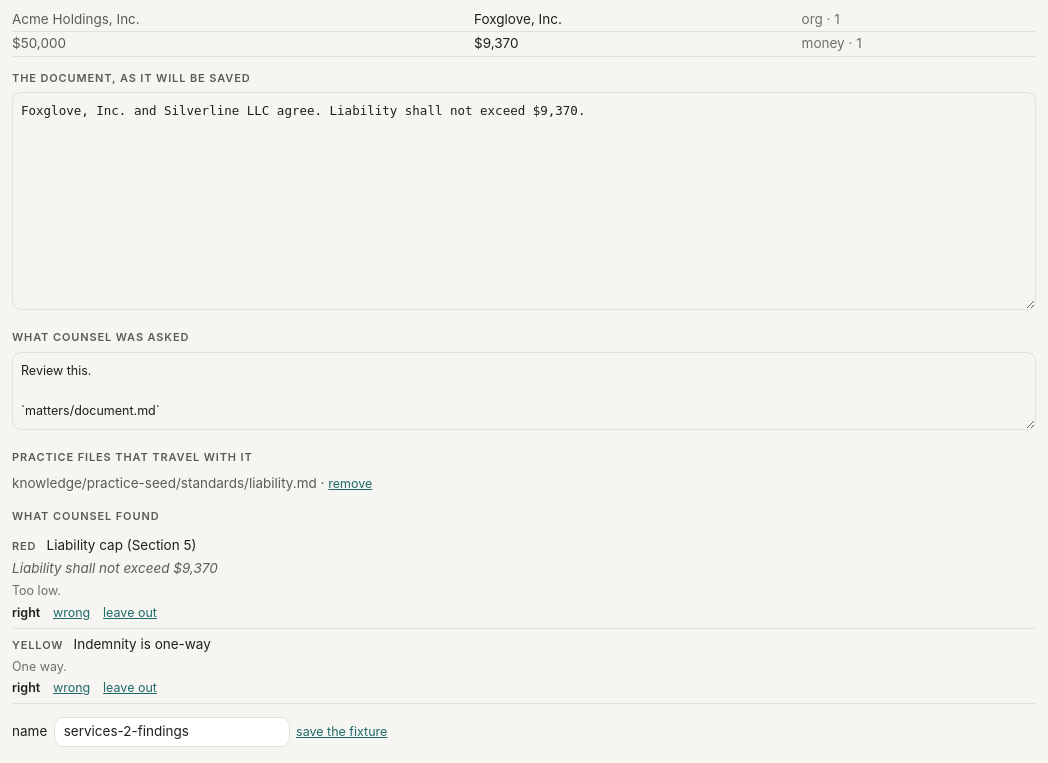
Scenario: a finding the save left out is named, not quietly gone
The image size is (1048, 763).
(page scrolled)
Click the button "save the fixture".
click(342, 732)  # box [296,722,387,742]
(page scrolled)
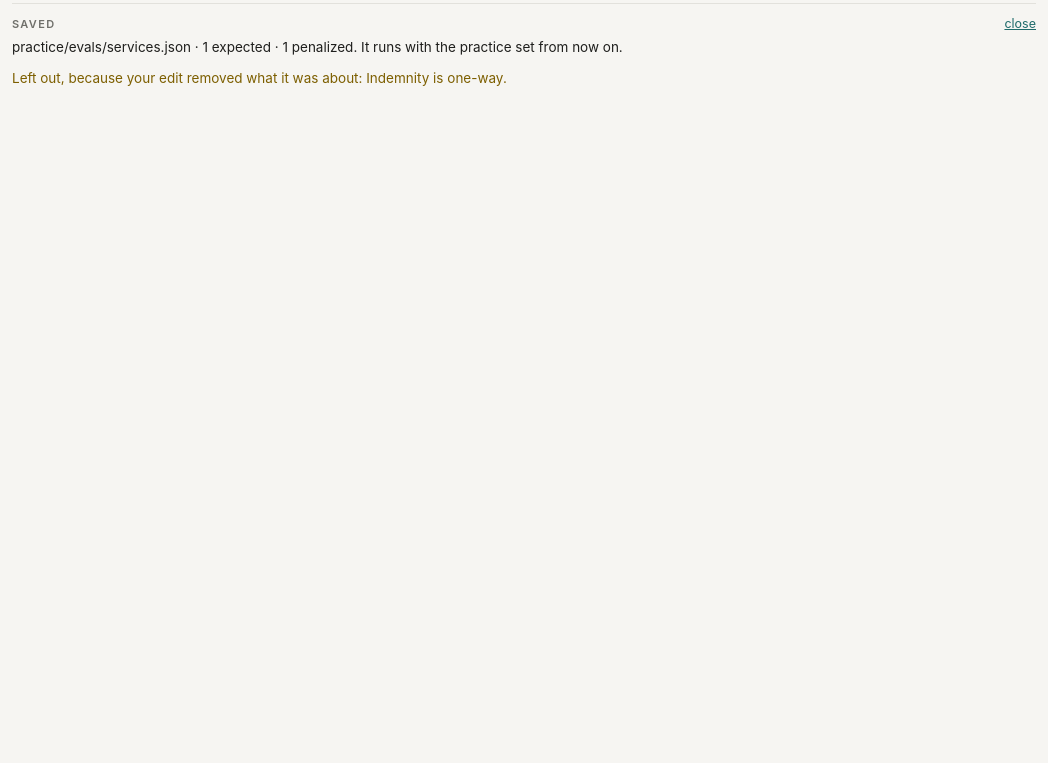
Expected: the text "Left out, because your edit removed what it was about: Indemnity is one-way" is shown, [12,70,507,86]
